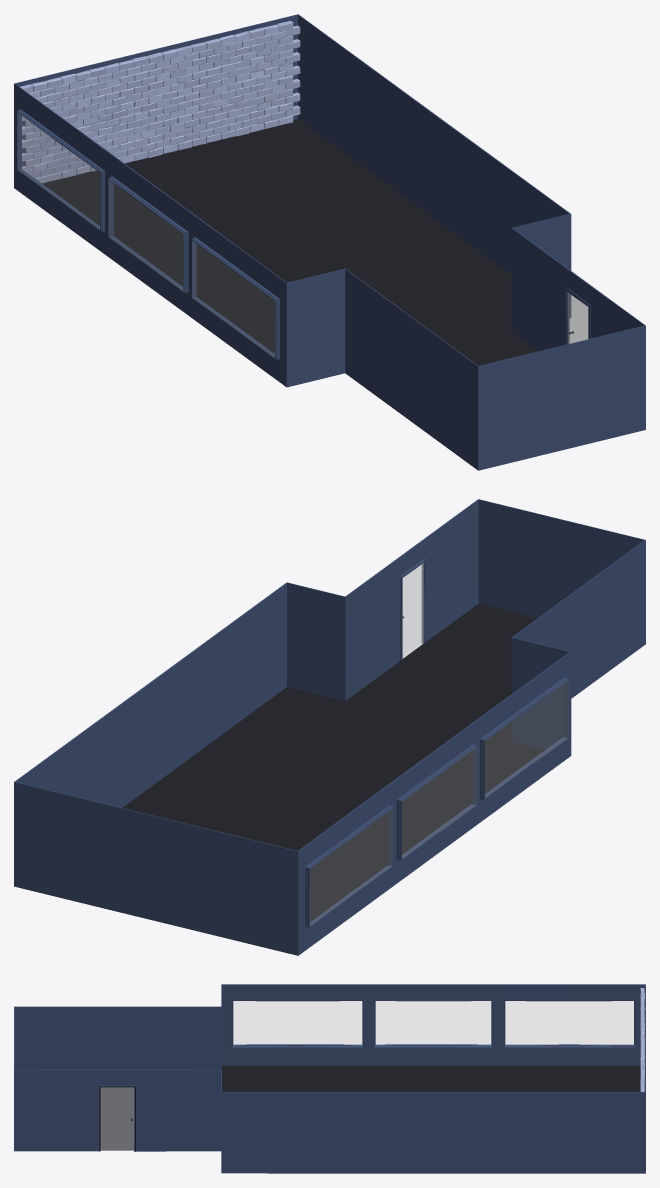
The model's file is gym16.11.2023.fbx.
The picture shows the model from 3 angles, top to bottom: view 1: azimuth 30°, elevation 25°; view 2: azimuth 150°, elevation 25°; view 3: azimuth 270°, elevation 25°; orthographic projection. The views are drawn at different scales.
Parts seen in each view (by area): view 1: Cube, floor, brick, brick.001, window 1, window 3, window 2, door; view 2: Cube, floor, window 1, window 3, window 2, door; view 3: Cube, floor, window 3, window 1, window 2, door, brick.
Part boxes in pixels (x1,y1,x2,y2): Cube: [14, 14, 645, 470]; floor: [14, 119, 537, 469]; brick: [20, 21, 293, 183]; brick.001: [23, 25, 300, 178]; window 1: [192, 241, 274, 358]; window 3: [17, 113, 99, 229]; window 2: [108, 179, 183, 291]; door: [568, 292, 588, 343]; Cube: [14, 499, 645, 955]; floor: [14, 603, 642, 955]; window 1: [485, 680, 567, 797]; window 3: [310, 809, 392, 925]; window 2: [402, 747, 476, 858]; door: [402, 563, 423, 658]; Cube: [14, 984, 645, 1173]; floor: [101, 1065, 645, 1173]; window 3: [505, 1001, 633, 1044]; window 1: [233, 1001, 361, 1044]; window 2: [376, 1001, 490, 1044]; door: [100, 1087, 133, 1150]; brick: [640, 988, 644, 1091].
Bounding box in the file's own units: 1042 × 362 × 2536.
